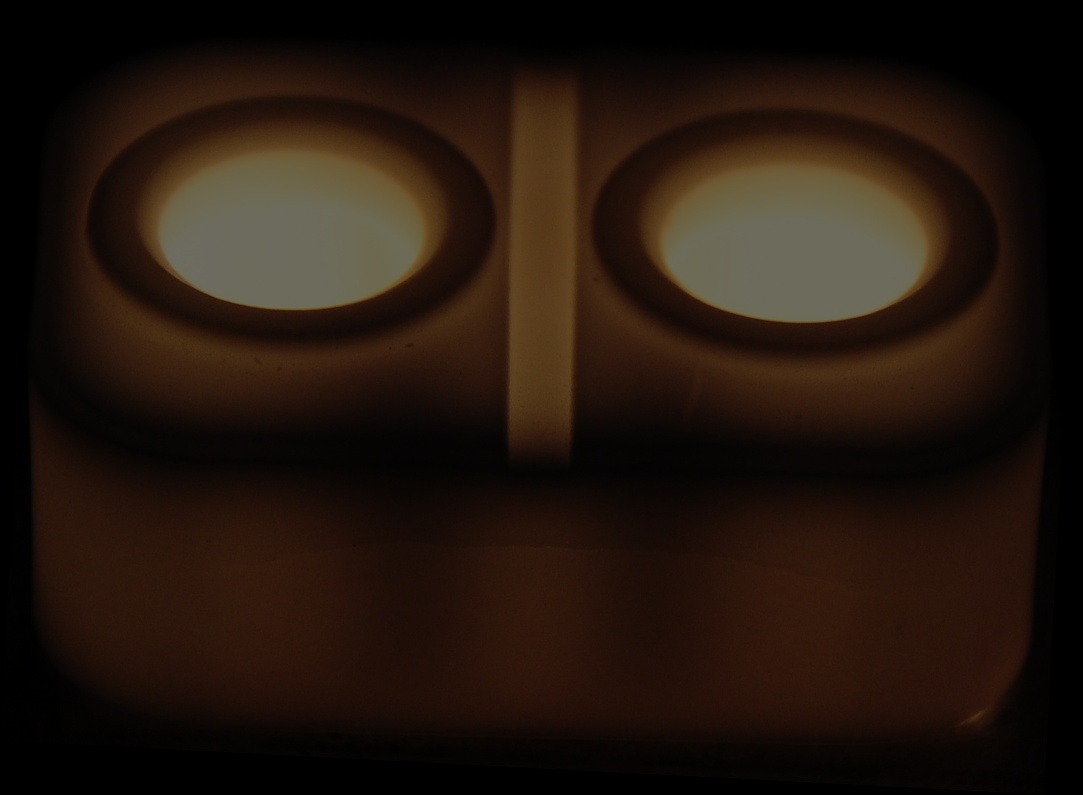flaw: (147, 520, 903, 617)
scratch: (672, 352, 717, 437)
